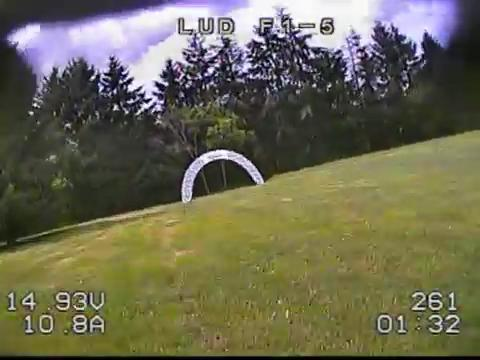gate: (179, 149, 265, 203)
